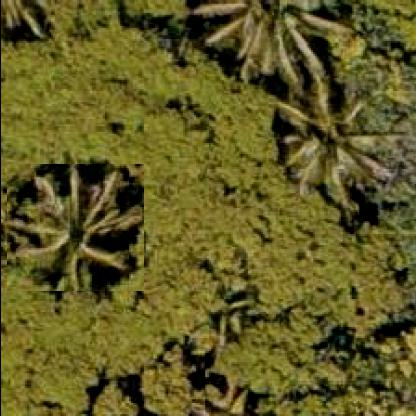coconut tree: (190, 2, 410, 214), (6, 163, 144, 291)
